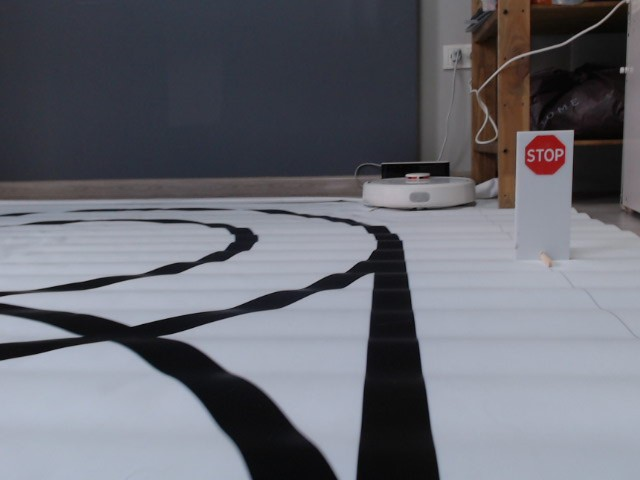Stop: (523, 133, 567, 177)
